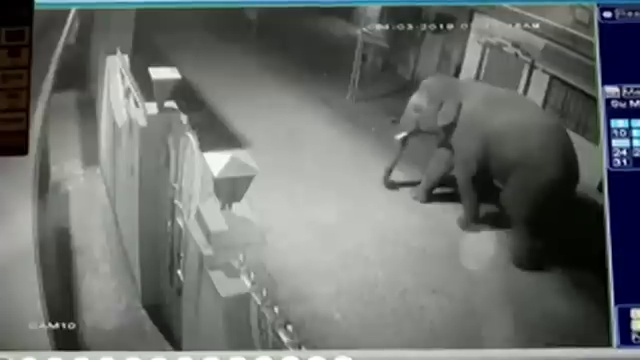Elephant: (382, 74, 580, 272)
